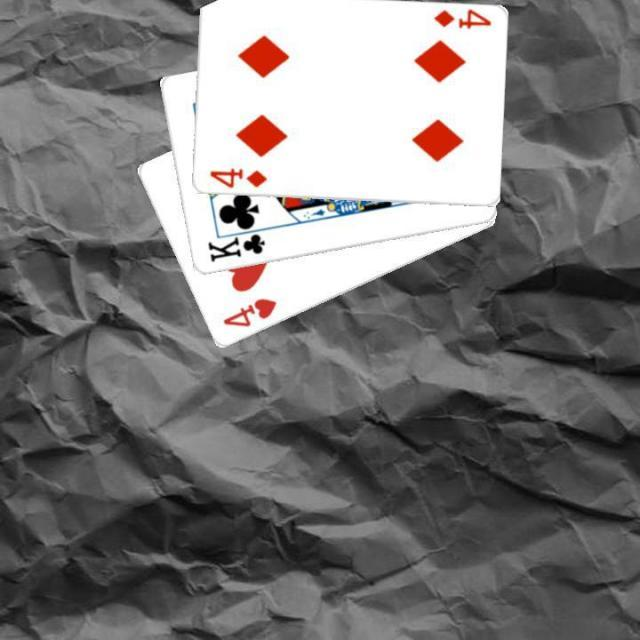4D: (206, 165, 269, 191), (430, 6, 493, 31)
4H: (219, 294, 279, 330)
KC: (204, 223, 270, 264)
